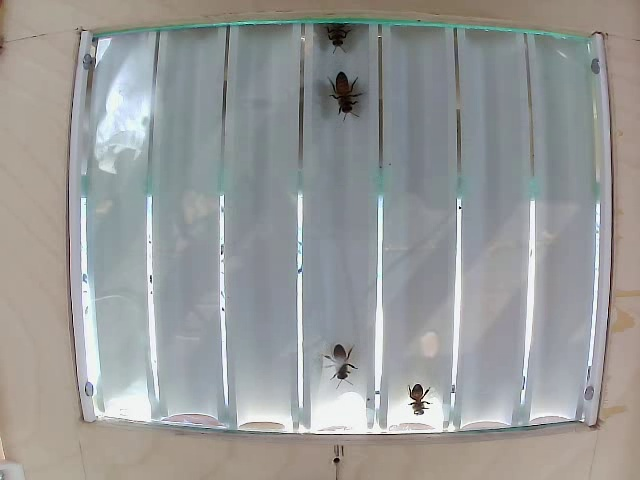bee: (320, 68, 366, 140), (397, 376, 439, 423), (321, 19, 359, 63), (325, 327, 352, 386)
